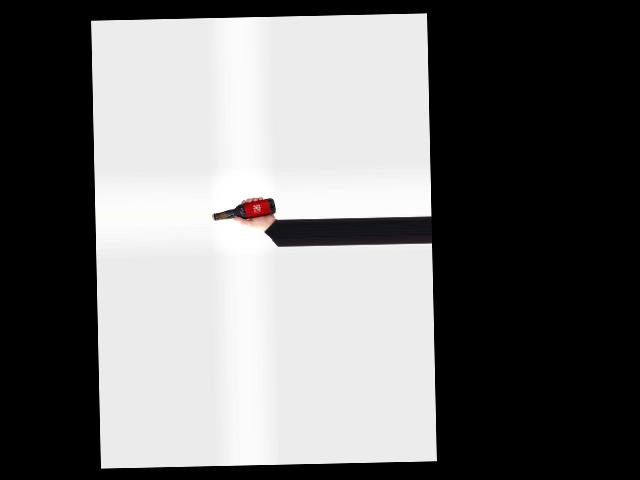beer: (211, 197, 276, 221)
